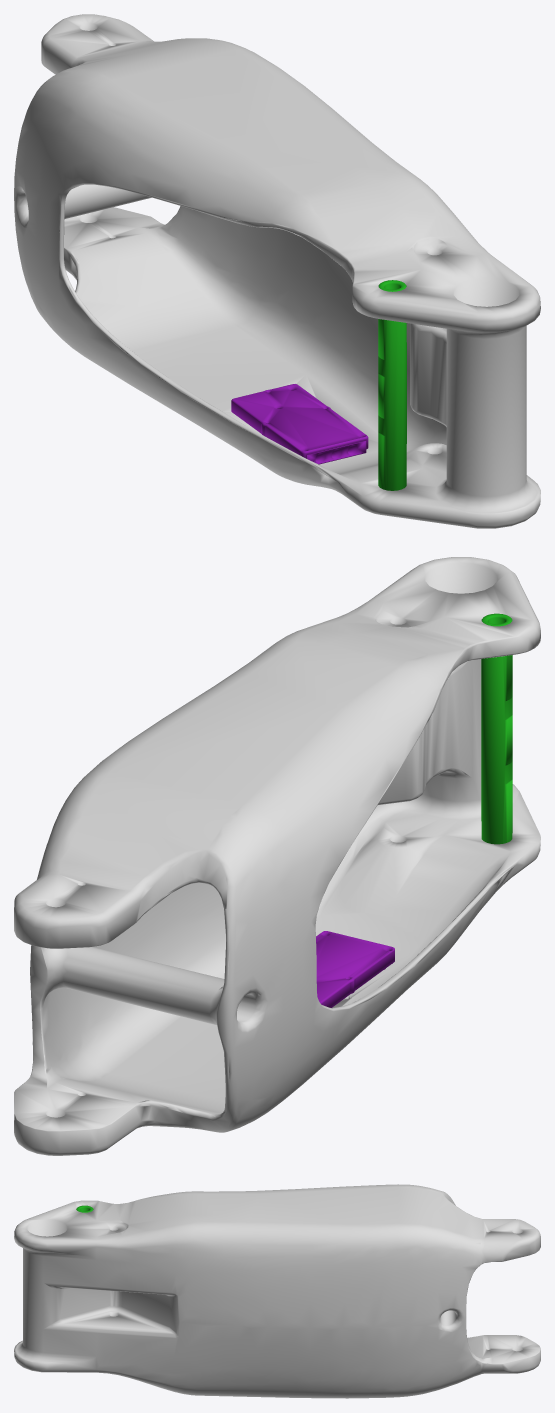
File: left_shin.obj
The picture shows the model from 3 angles, top to bottom: view 1: azimuth 30°, elevation 25°; view 2: azimuth 150°, elevation 25°; view 3: azimuth 270°, elevation 25°; orthographic projection. The views are drawn at different scales.
Bounding box in the file's own units: 0.1412 × 0.162 × 0.4506.
